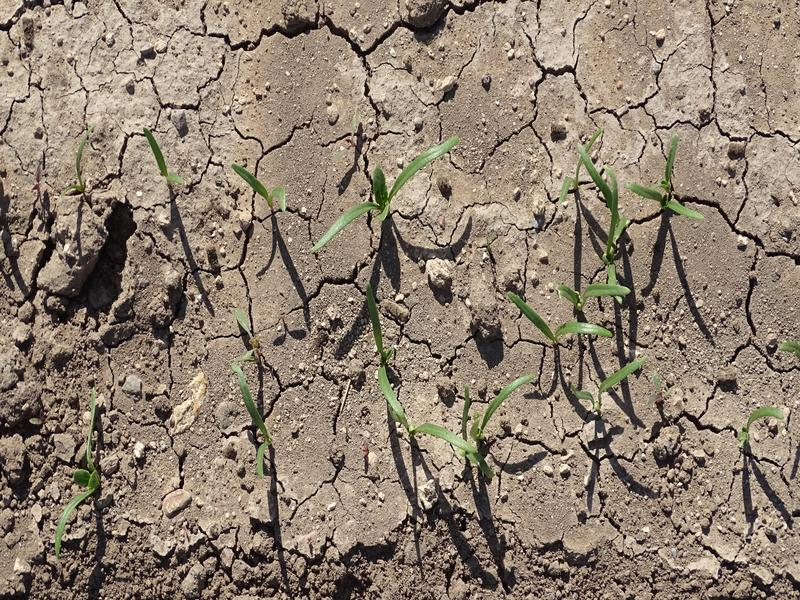Espinaca: (515, 261, 646, 408), (316, 133, 461, 265), (373, 348, 534, 466), (556, 127, 703, 249), (217, 311, 280, 474), (50, 385, 107, 556), (231, 158, 292, 216), (140, 123, 186, 191), (735, 403, 784, 449)
